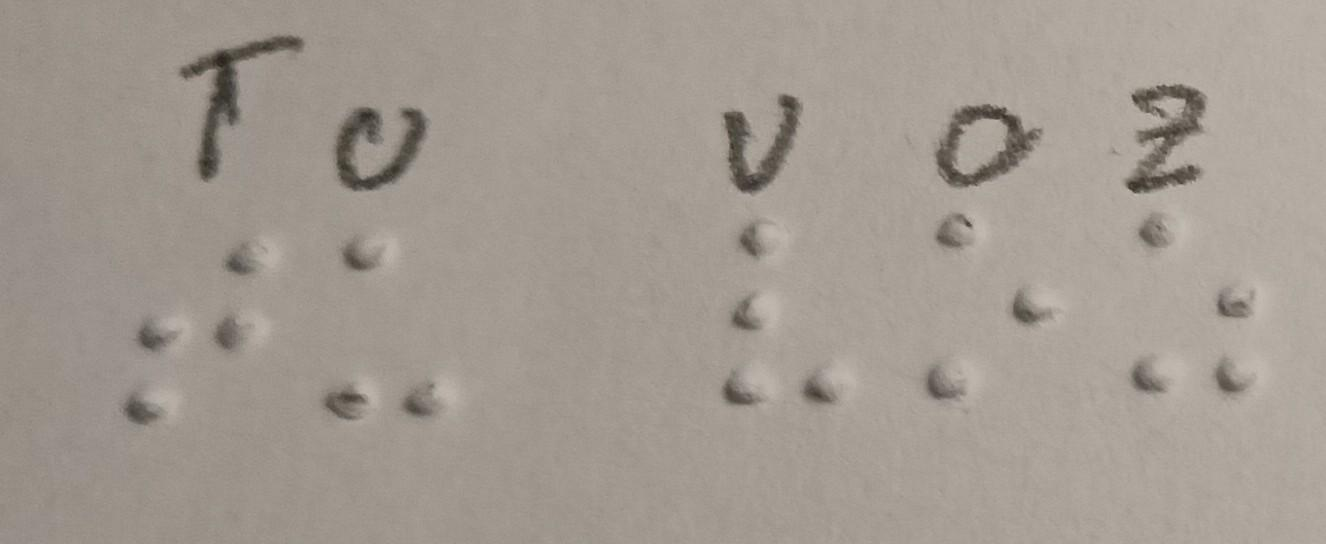o: (882, 192, 1060, 423)
t: (113, 210, 278, 452)
u: (303, 210, 480, 438)
v: (698, 197, 865, 417)
z: (1087, 192, 1285, 422)
